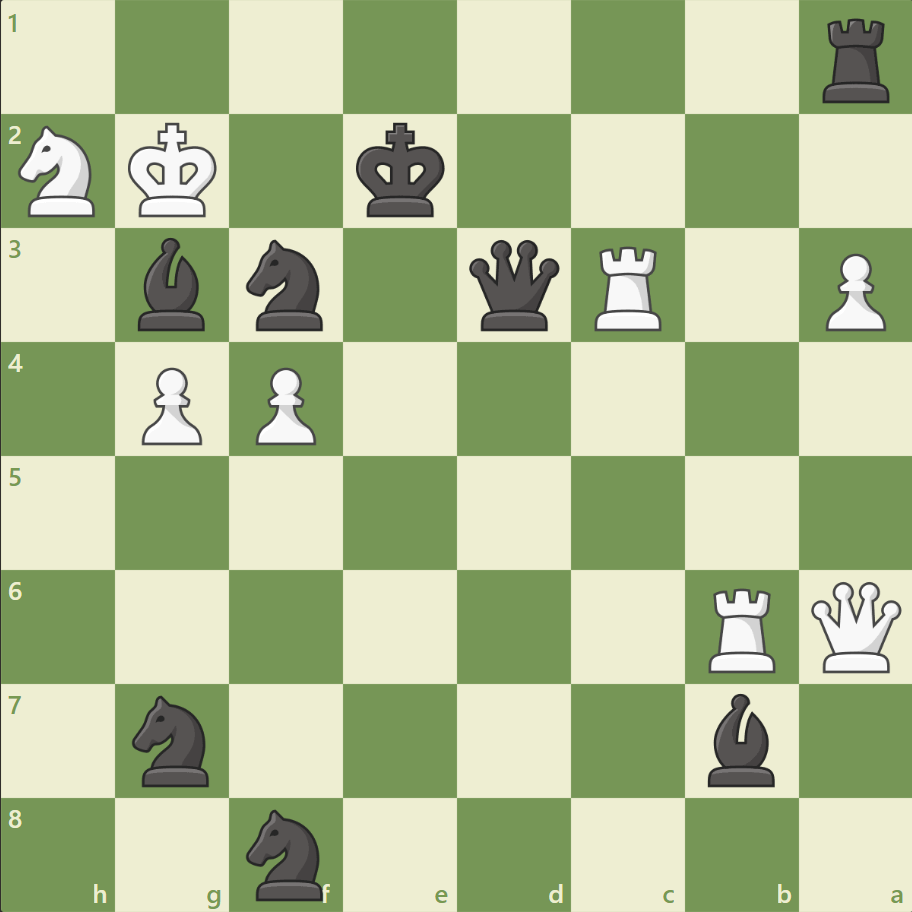K: (124, 117, 224, 225)
N: (11, 121, 108, 223)
P: (247, 359, 322, 450), (133, 359, 208, 450), (815, 246, 889, 337)
Q: (805, 576, 904, 676)
R: (700, 579, 783, 676), (587, 239, 670, 336)
b: (698, 687, 782, 790), (131, 233, 215, 336)
k: (351, 117, 451, 225)
n: (124, 688, 222, 791), (238, 234, 335, 337), (238, 802, 335, 904)
q: (464, 236, 563, 335)
r: (814, 12, 897, 109)
